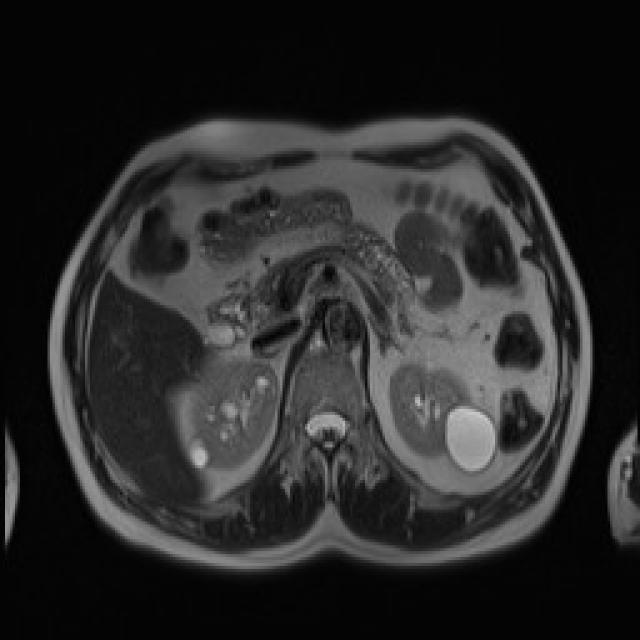sag: (188, 361, 280, 470)
sol: (390, 365, 498, 474)
